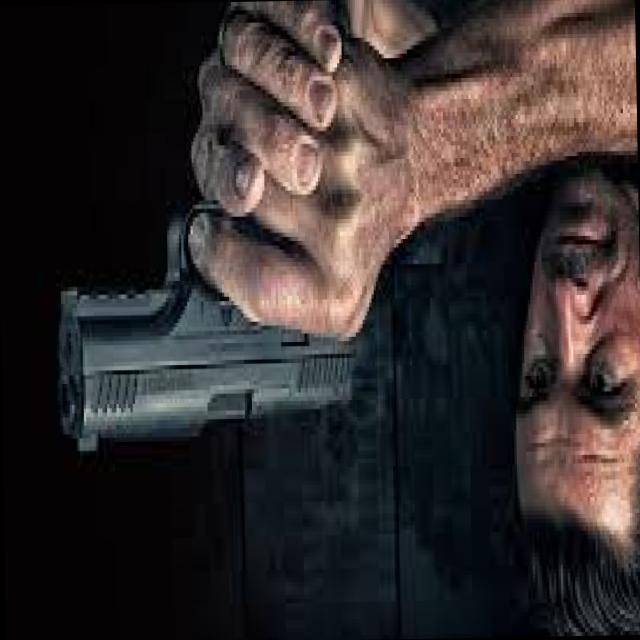Gun: (48, 192, 376, 456)
